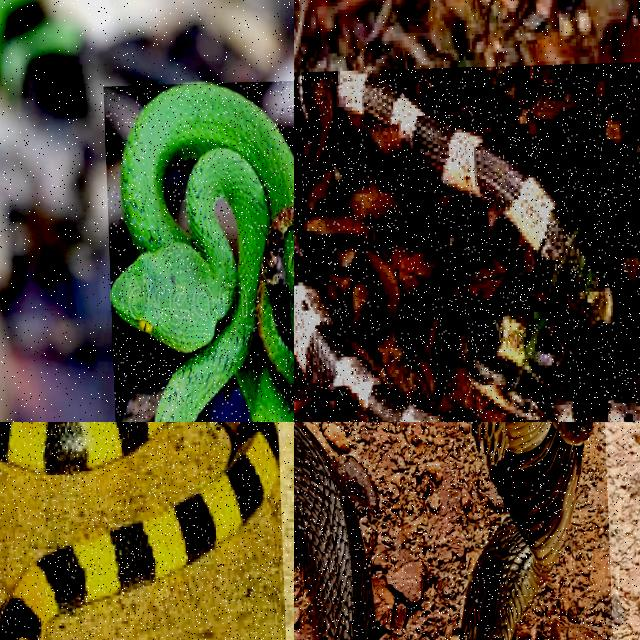Bungarus candidus: (334, 70, 583, 271)
Bungarus fasciatus: (0, 422, 280, 639)
Naja kaouthia: (459, 422, 591, 639)
Trimeresurus macrops: (112, 84, 293, 421)
snake: (112, 84, 293, 421), (0, 422, 280, 639), (334, 70, 583, 271), (459, 422, 591, 639)
